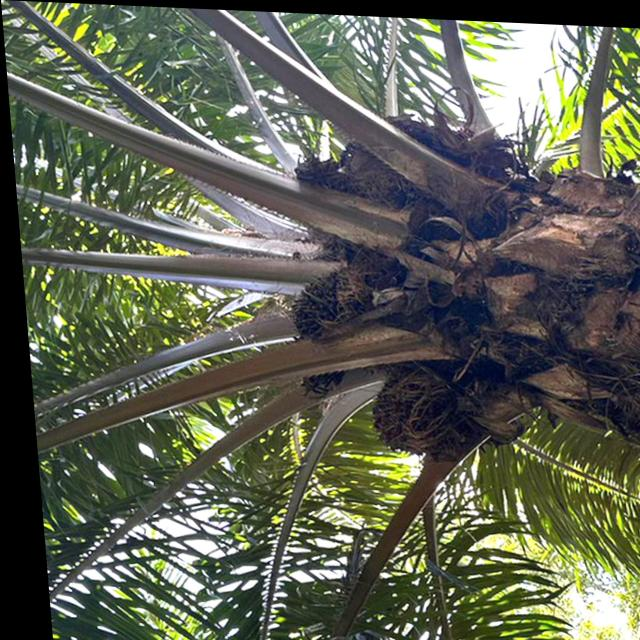unripe: (276, 262, 374, 353)
